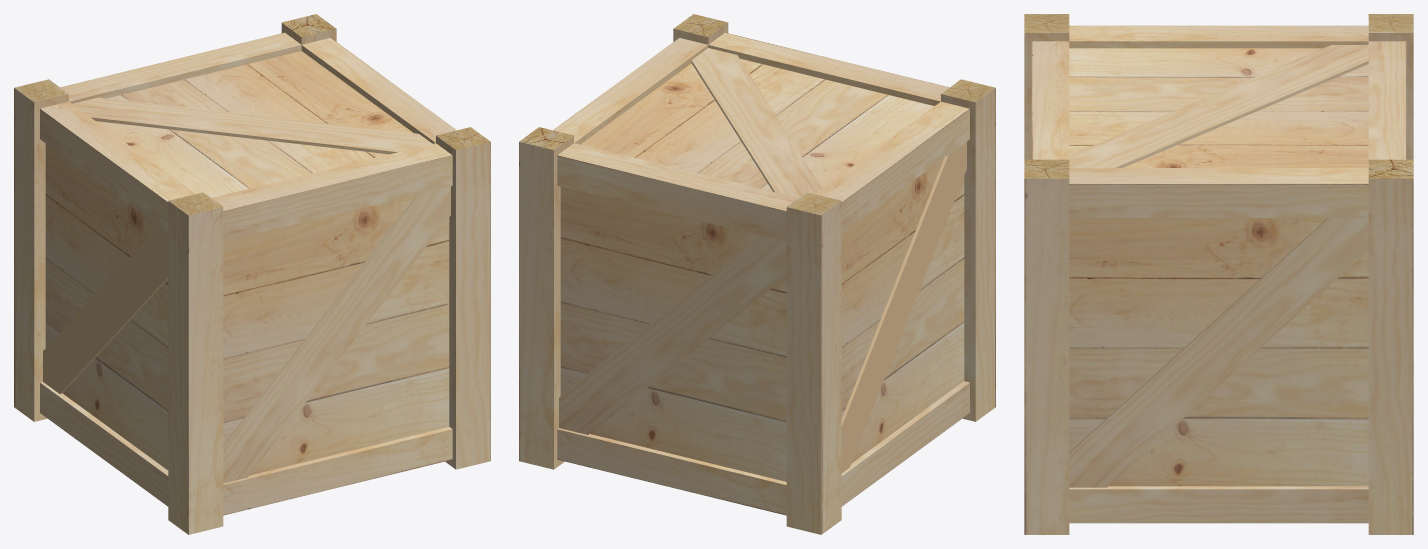
File: box_seb.fbx
3 renders of one model, left to right at view 1: azimuth 30°, elevation 25°; view 2: azimuth 150°, elevation 25°; view 3: azimuth 270°, elevation 25°, orthographic. The views are drawn at different scales.
Visible parts, largest first — view 1: Box; view 2: Box; view 3: Box.
Boxes of the visible parts, box(x1,y1,x2,y2) form: Box: box(14, 14, 490, 534); Box: box(519, 14, 995, 534); Box: box(1024, 14, 1413, 534).
Bounding box in the file's own units: 208 × 210 × 208.
1 material, 1 textured.
